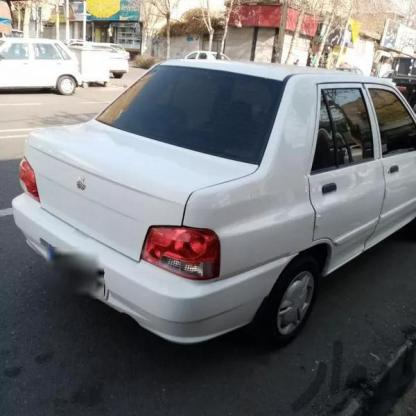Car: (0, 55, 416, 340), (0, 38, 88, 98)
